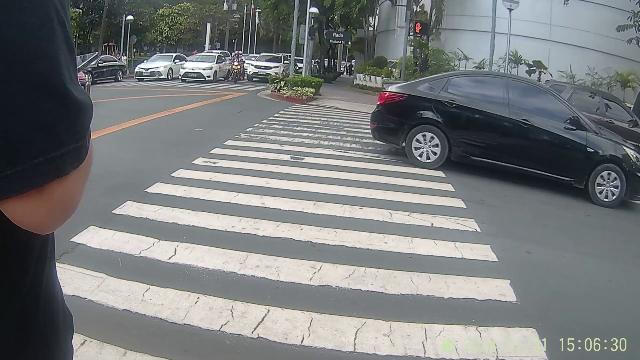car: (133, 49, 231, 83)
lamp_post: (306, 6, 322, 72), (123, 14, 137, 54)
utility_post: (614, 3, 640, 117)
